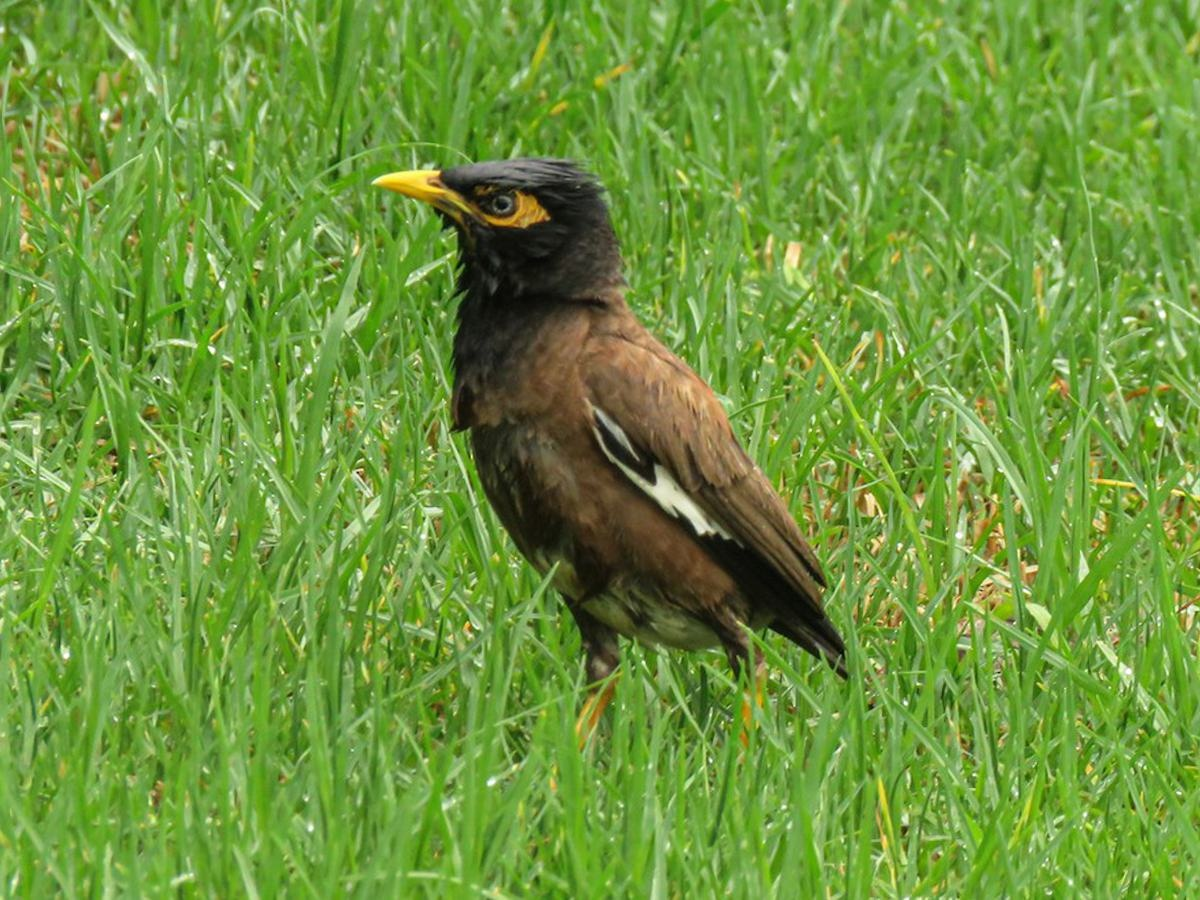myna: (371, 133, 834, 694)
